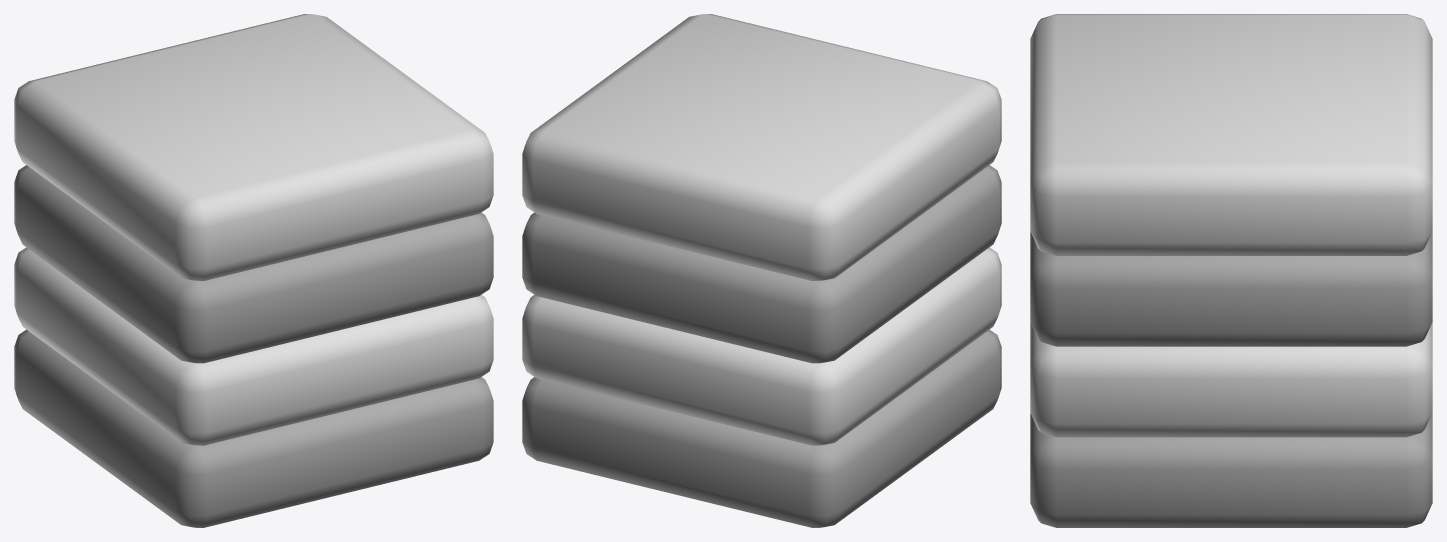
Rendered from Almunium_Bar_L1.fbx.
3 views of the same model, side by side, from view 1: azimuth 30°, elevation 25°; view 2: azimuth 150°, elevation 25°; view 3: azimuth 270°, elevation 25° (orthographic). The views are drawn at different scales.
Visible parts, largest first — view 1: Almunium Bar; view 2: Almunium Bar; view 3: Almunium Bar.
Boxes of the visible parts, x1,y1,x2,y2 form: Almunium Bar: (14, 14, 493, 527); Almunium Bar: (522, 14, 1001, 527); Almunium Bar: (1030, 14, 1432, 527).
Bounding box in the file's own units: 80.38 × 80.38 × 80.38.
